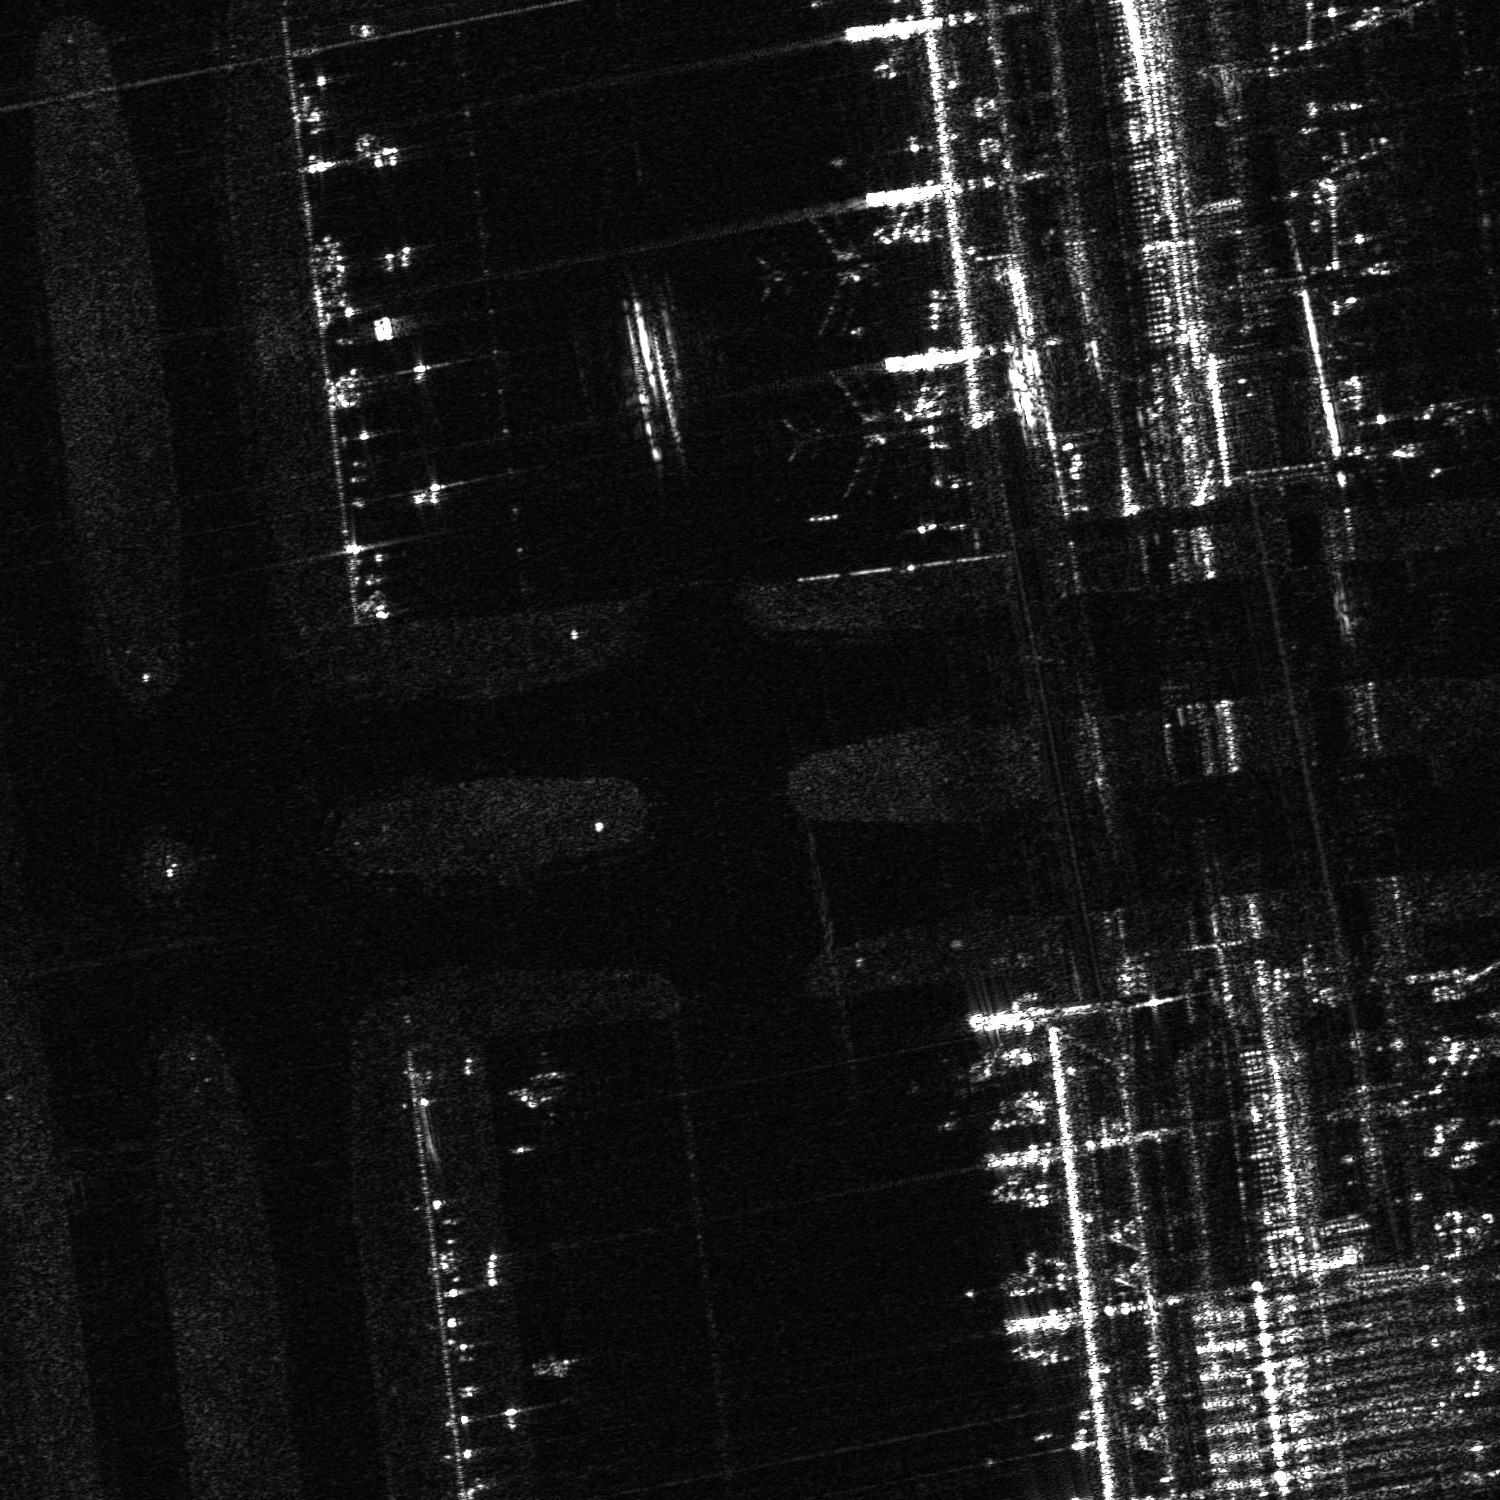A330: (788, 371, 907, 501)
Boeing787: (757, 214, 878, 341)
